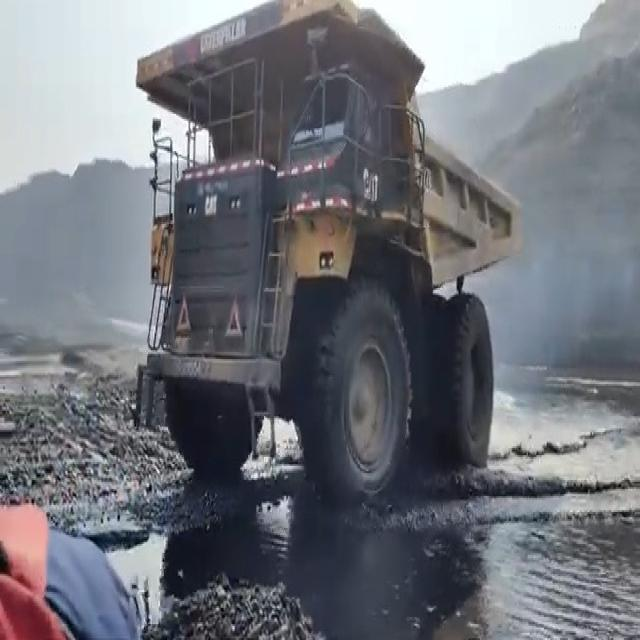dump_truck: (134, 5, 526, 482)
